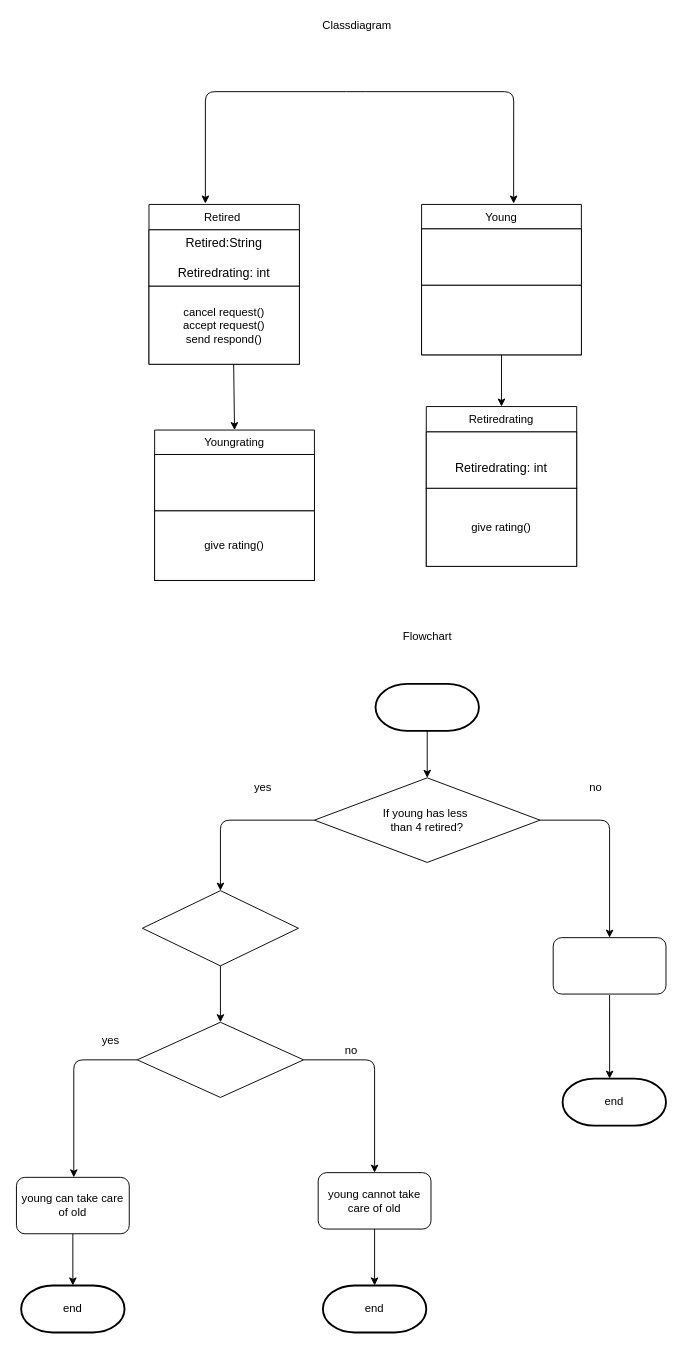
The diagram is 683 pixels wide and 1349 high, and some of its shapes have lost their labels. Here are the shapes that lost their labels. From the top down, the centre of each, then its label:
At point (501, 256): "young: String youngrating: int".
At point (501, 319): "request() get response()".
At point (234, 482): "Youngrating: int".
At point (426, 706): "start".
At point (219, 928): "young request for one more old".
At point (609, 965): "young cannot request for one more old".
At point (220, 1059): "If old accepts?".
